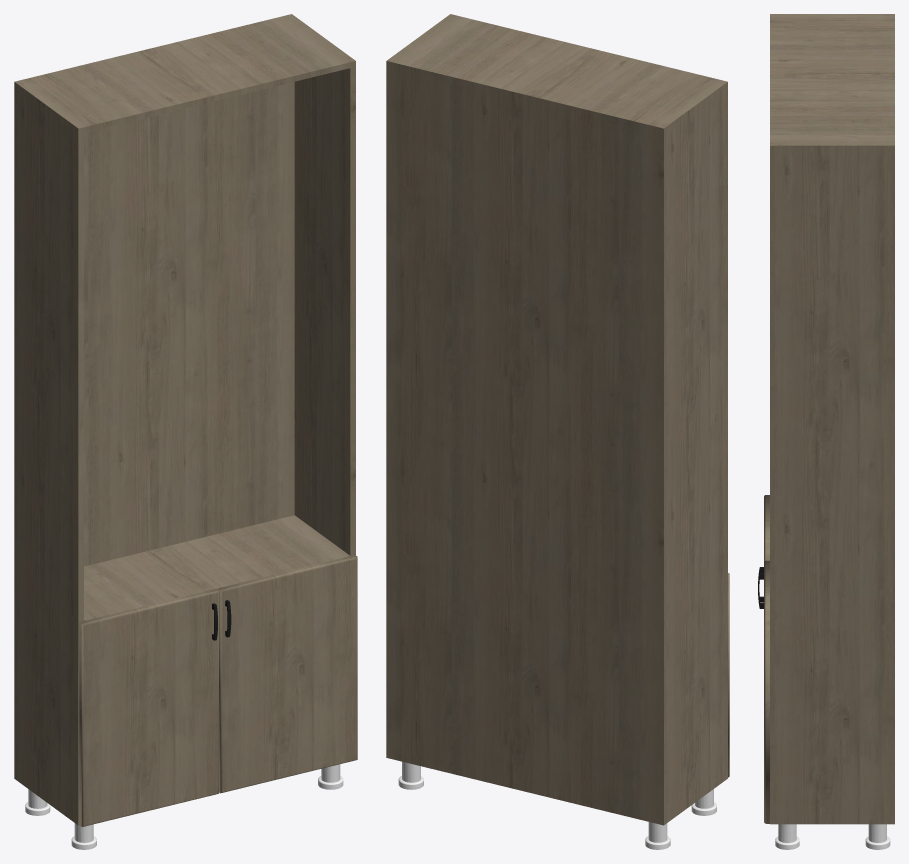
3 renders of one model, left to right at view 1: azimuth 30°, elevation 25°; view 2: azimuth 150°, elevation 25°; view 3: azimuth 270°, elevation 25°, orthographic. The views are drawn at different scales.
Parts seen in each view (by area): view 1: Box001, Box015, Box023, Box020; view 2: Box001; view 3: Box001, Box023, Cylinder004, Cylinder005, Box015.
Boxes of the visible parts, box(x1,y1,x2,y2) form: Box001: box(14, 14, 355, 825); Box015: box(79, 588, 218, 826); Box023: box(217, 555, 357, 793); Box020: box(84, 515, 349, 620); Box001: box(386, 14, 727, 825); Box001: box(770, 14, 894, 824); Box023: box(764, 560, 769, 823); Cylinder004: box(865, 824, 890, 849); Cylinder005: box(775, 824, 799, 849); Box015: box(764, 495, 769, 561).
Bounding box in the file's own units: 1 × 2.5 × 0.4389.
Materials: 3 (1 with a texture image).
